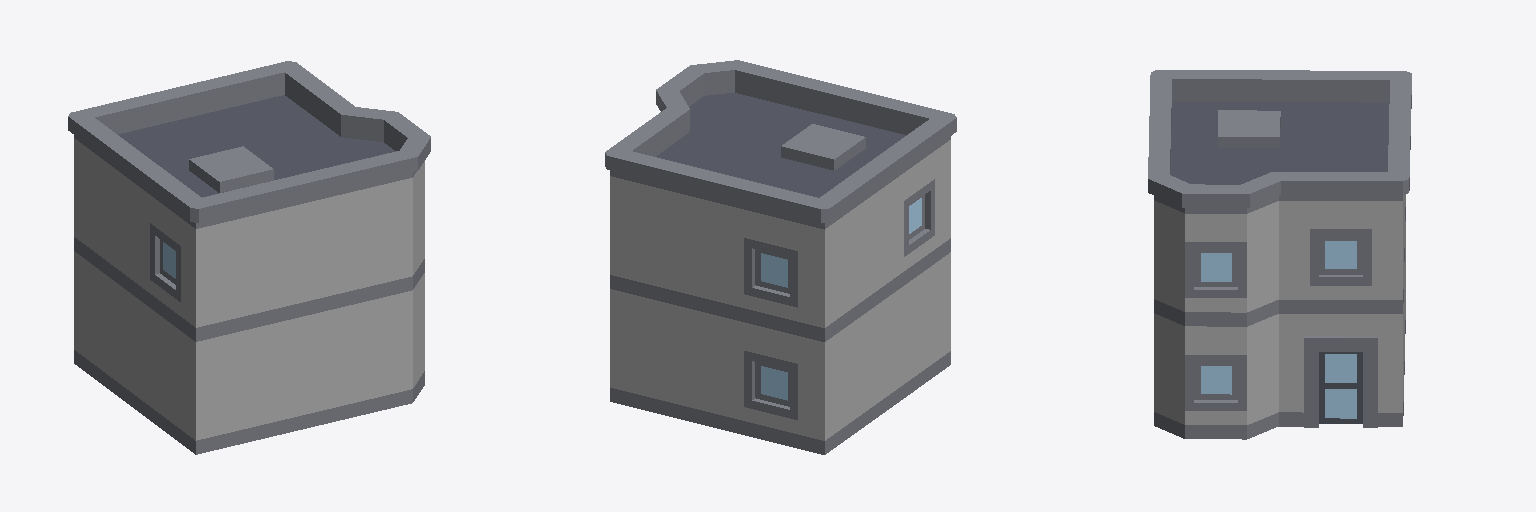
File: buildingP1.obj
3 renders of one model, left to right at view 1: azimuth 30°, elevation 25°; view 2: azimuth 150°, elevation 25°; view 3: azimuth 270°, elevation 25°, orthographic.
Parts seen in each view (by area): view 1: small_buildingB; view 2: small_buildingB; view 3: small_buildingB.
Part boxes in pixels (left/top/right/bottom): small_buildingB: left=68, top=61, right=430, bottom=454; small_buildingB: left=605, top=60, right=956, bottom=454; small_buildingB: left=1148, top=70, right=1411, bottom=439.
Size of the model in its own units: 0.8591 by 0.8016 by 0.7727.